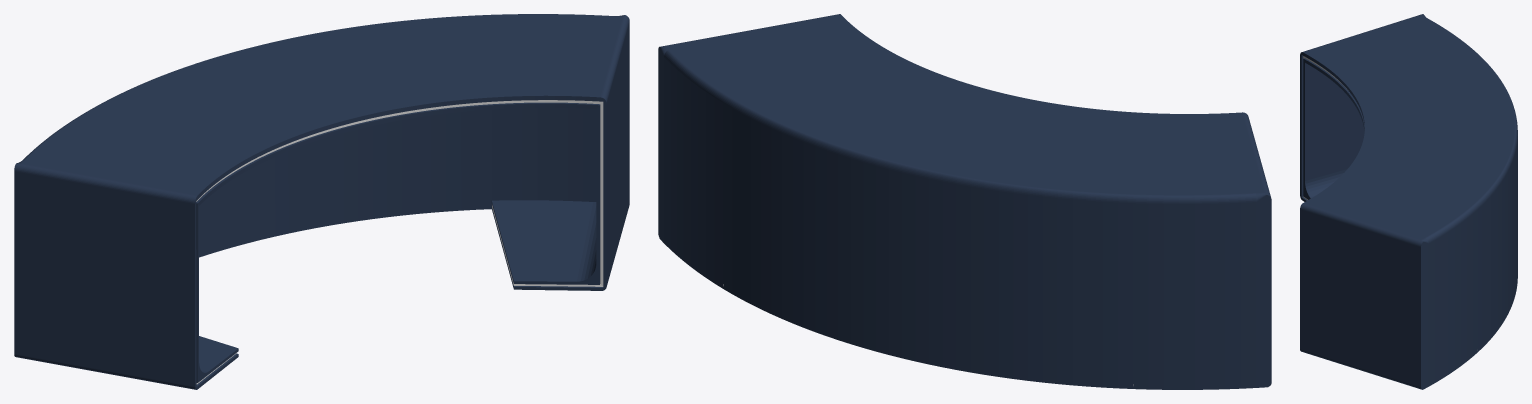
Rendered from Bureau.fbx.
3 renders of one model, left to right at view 1: azimuth 30°, elevation 25°; view 2: azimuth 150°, elevation 25°; view 3: azimuth 270°, elevation 25°, orthographic. The views are drawn at different scales.
Visible parts, largest first — view 1: Ecran; view 2: Ecran; view 3: Ecran.
Part boxes in pixels (x1,y1,x2,y2): Ecran: (14, 14, 629, 389); Ecran: (658, 14, 1271, 389); Ecran: (1300, 14, 1517, 389).
Bounding box in the file's own units: 250 × 75 × 100.
